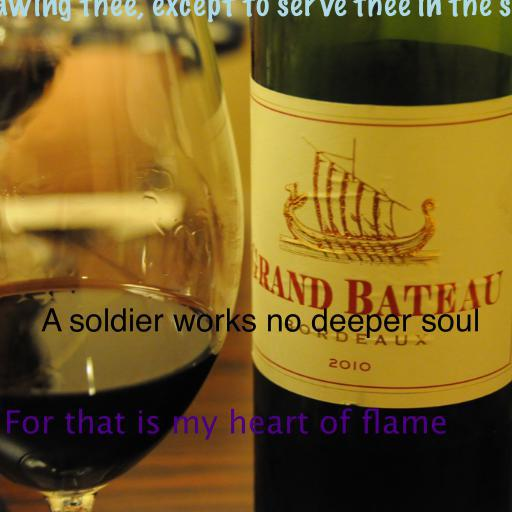Lucida Grande: (4, 408, 448, 440)
Marker Felt: (0, 0, 512, 23)
SF Pro: (40, 308, 480, 338)
